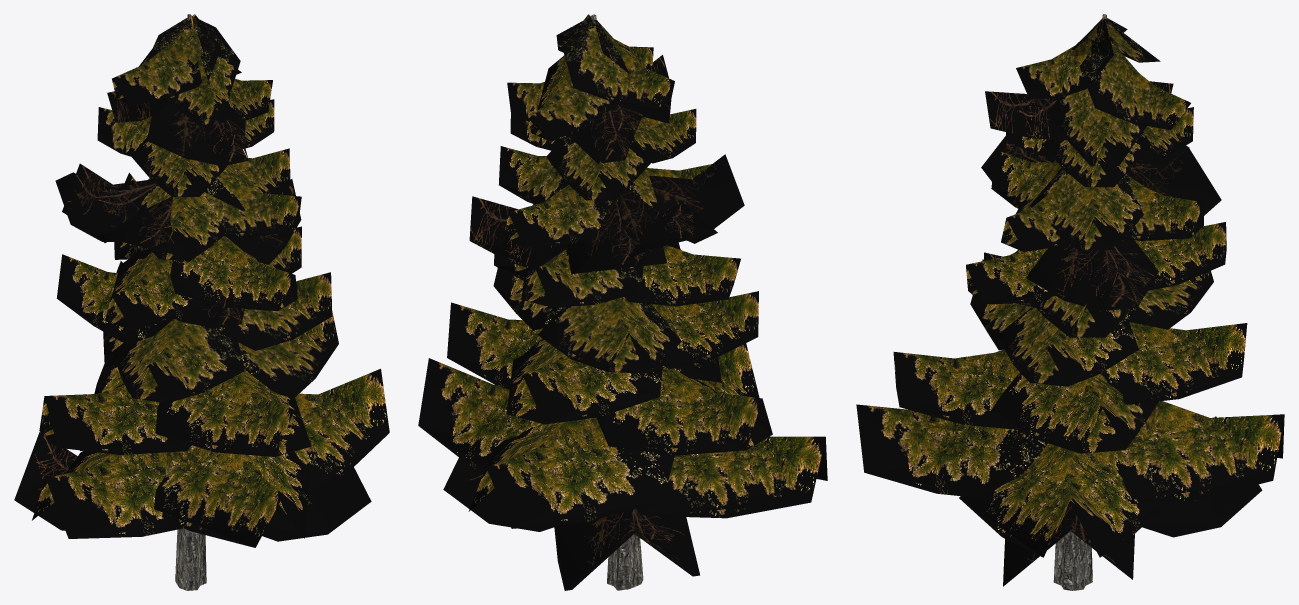
Rendered from DriPine01.fbx.
3 renders of one model, left to right at view 1: azimuth 30°, elevation 25°; view 2: azimuth 150°, elevation 25°; view 3: azimuth 270°, elevation 25°, orthographic. The views are drawn at different scales.
Parts seen in each view (by area): view 1: PineGr200, PineGr256; view 2: PineGr200, PineGr256; view 3: PineGr200, PineGr256.
Boxes of the visible parts, <box> form: PineGr200: <box>14,14,389,582</box>; PineGr256: <box>15,14,388,590</box>; PineGr200: <box>419,14,827,590</box>; PineGr256: <box>418,14,826,590</box>; PineGr200: <box>865,17,1284,586</box>; PineGr256: <box>856,14,1284,590</box>.
Bounding box in the file's own units: 10.35 × 15.26 × 10.29.
